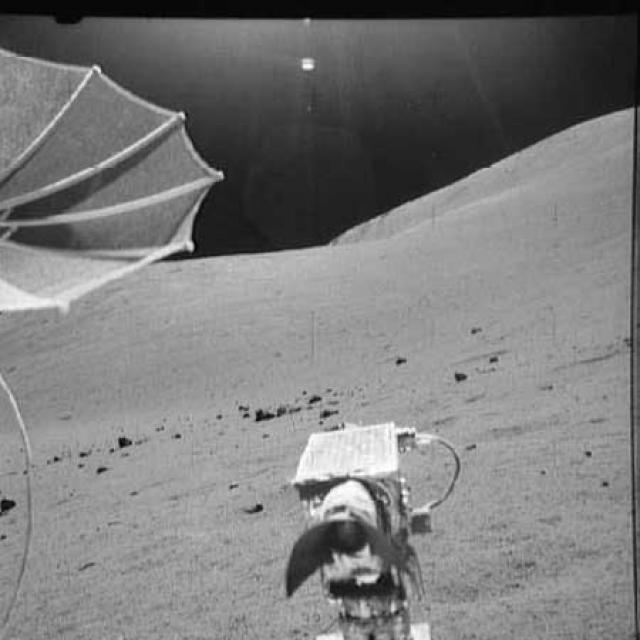artifact: (0, 47, 227, 319), (283, 420, 469, 638), (0, 374, 42, 635)
rock: (246, 394, 272, 424), (112, 428, 138, 452), (450, 364, 469, 383), (302, 392, 323, 407)
